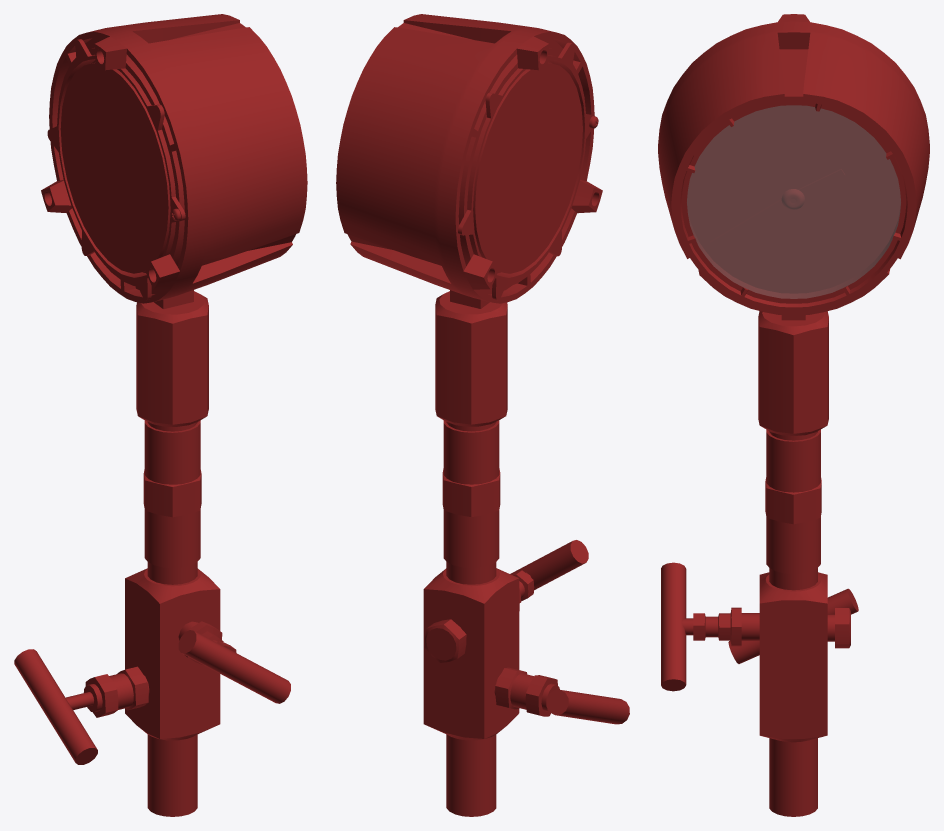
Rendered from SM_GaugeReboiler.FBX.
The picture shows the model from 3 angles, left to right: view 1: azimuth 30°, elevation 25°; view 2: azimuth 150°, elevation 25°; view 3: azimuth 270°, elevation 25°; orthographic projection. The views are drawn at different scales.
Visible parts, largest first — view 1: GaugeReboiler_2ndFlr, Gauge_tap02, Gauge_tap01; view 2: GaugeReboiler_2ndFlr, Gauge_tap02, Gauge_tap01; view 3: GaugeReboiler_2ndFlr, GaugeReboiler_Glass, Gauge_tap01, GaugeReboiler_2ndFlr_Needle, Gauge_tap02.
Part boxes in pixels (left/top/right/bottom): GaugeReboiler_2ndFlr: left=41, top=14, right=307, bottom=816; Gauge_tap02: left=14, top=649, right=149, bottom=764; Gauge_tap01: left=178, top=621, right=290, bottom=703; GaugeReboiler_2ndFlr: left=336, top=14, right=602, bottom=816; Gauge_tap02: left=494, top=667, right=629, bottom=724; Gauge_tap01: left=424, top=540, right=588, bottom=662; GaugeReboiler_2ndFlr: left=658, top=14, right=929, bottom=816; GaugeReboiler_Glass: left=687, top=105, right=900, bottom=298; Gauge_tap01: left=661, top=562, right=850, bottom=691; GaugeReboiler_2ndFlr_Needle: left=710, top=169, right=844, bottom=244; Gauge_tap02: left=728, top=588, right=858, bottom=663.
Bounding box in the file's own units: 11.65 × 14.04 × 43.27.
